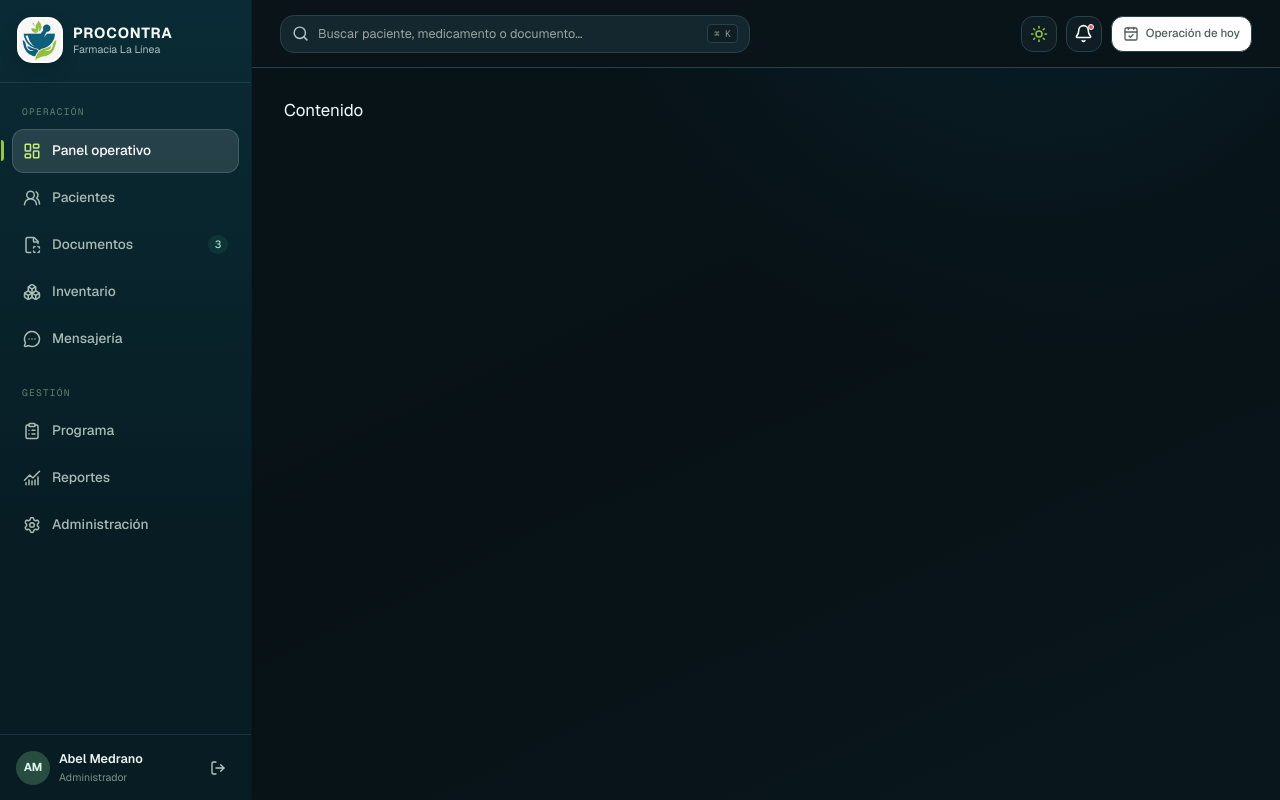
Test: AppShell › keeps the theme control synchronized with the theme already applied before paint
The image size is (1280, 800).
Click the button named "Cambiar a modo claro" at (1039, 34), box [1021,16,1057,52]
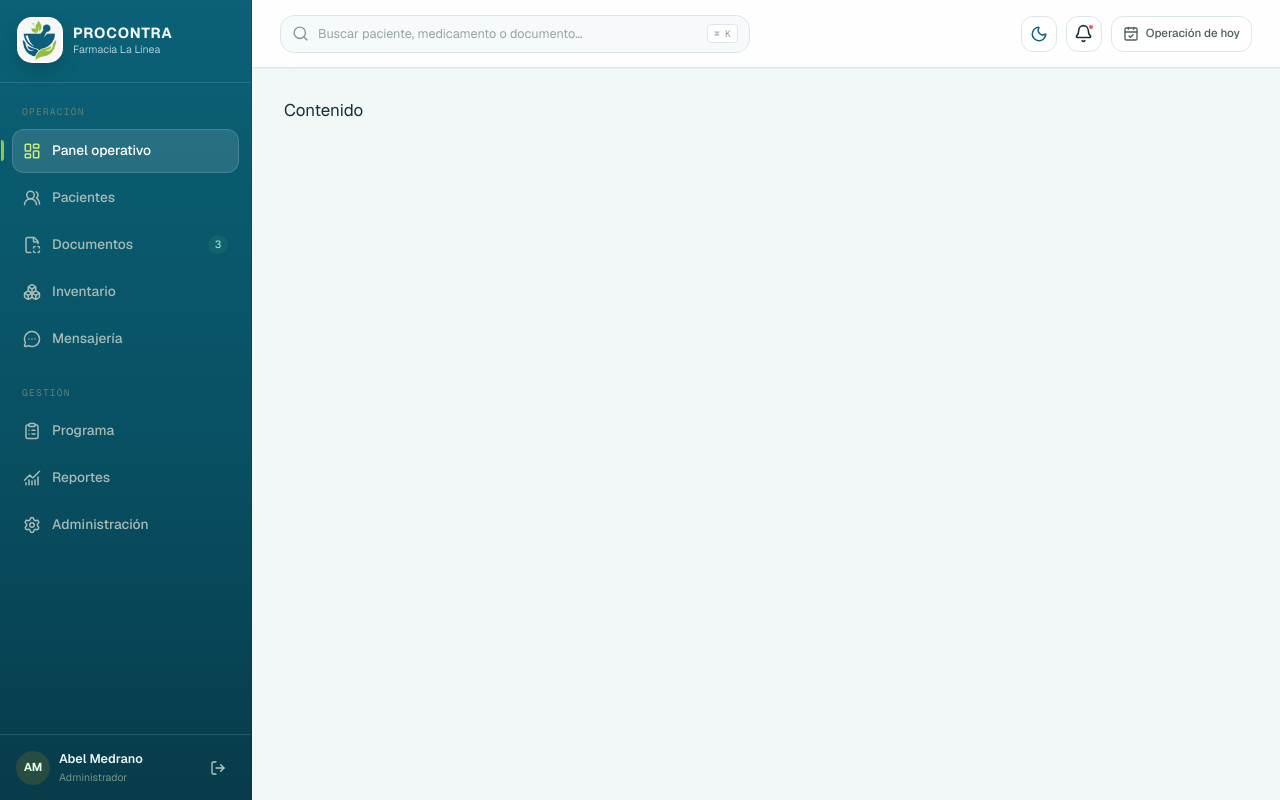
Expected: the button named "Cambiar a modo oscuro" is shown, [1021,16,1057,52]
